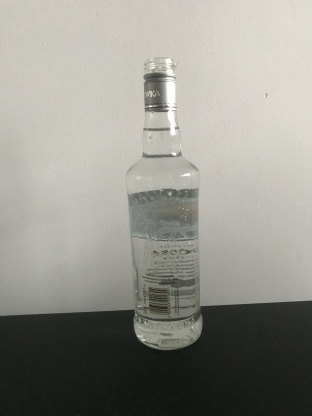nakretka: (142, 55, 177, 112)
